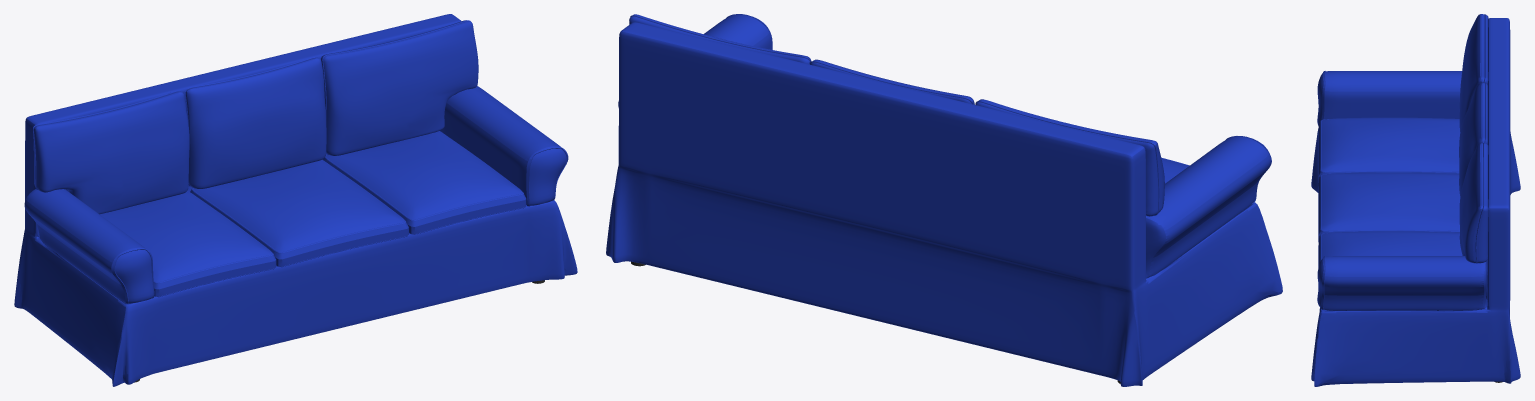
File: IKEA-Ektorp_Sofa_Dark_Blue-3D.obj
3 views of the same model, side by side, from view 1: azimuth 30°, elevation 25°; view 2: azimuth 150°, elevation 25°; view 3: azimuth 270°, elevation 25° (orthographic). The views are drawn at different scales.
Visible parts, largest first — view 1: Cylinder02, Rectangle2, Rectangle1, Rectangle0, Box07, Box06, Box08; view 2: Cylinder02, Rectangle1, Rectangle2, Rectangle0; view 3: Cylinder02, Box07, Box08, Box06, Rectangle2, Rectangle1, Rectangle0.
Boxes of the visible parts, x1,y1,x2,y2 form: Cylinder02: [14, 14, 577, 386]; Rectangle2: [321, 20, 478, 155]; Rectangle1: [33, 90, 189, 214]; Rectangle0: [185, 57, 326, 188]; Box07: [190, 160, 408, 267]; Box06: [323, 131, 526, 234]; Box08: [100, 191, 276, 297]; Cylinder02: [606, 14, 1282, 386]; Rectangle1: [975, 99, 1164, 216]; Rectangle2: [629, 14, 811, 64]; Rectangle0: [809, 59, 974, 104]; Cylinder02: [1311, 18, 1520, 386]; Box07: [1318, 172, 1460, 241]; Box08: [1318, 117, 1460, 182]; Box06: [1318, 231, 1462, 287]; Rectangle2: [1459, 142, 1488, 275]; Rectangle1: [1459, 14, 1488, 131]; Rectangle0: [1459, 82, 1487, 196].
Size of the model in its own units: 5499 by 2227 by 2352.
